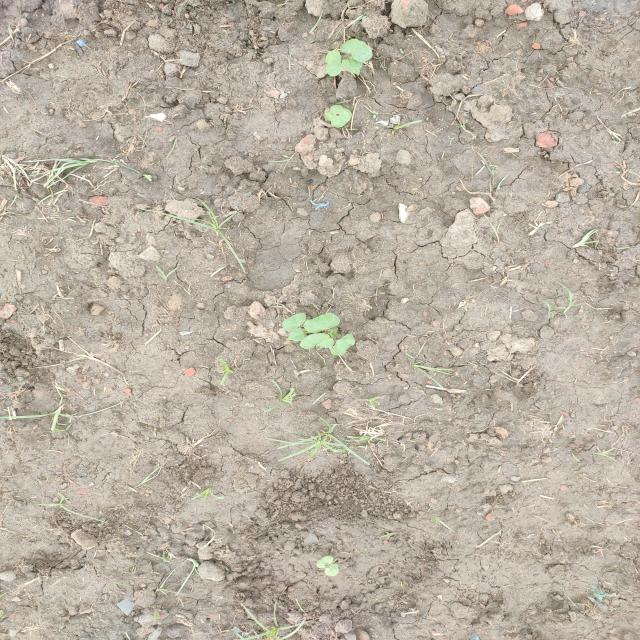seedling_s4: (340, 39, 372, 62), (304, 313, 339, 332), (331, 334, 355, 356), (326, 50, 342, 77), (331, 108, 352, 128), (282, 313, 305, 331), (342, 56, 362, 75), (300, 334, 322, 349), (325, 105, 343, 121), (316, 333, 335, 348), (287, 328, 307, 341), (317, 556, 333, 568), (325, 564, 339, 576)
